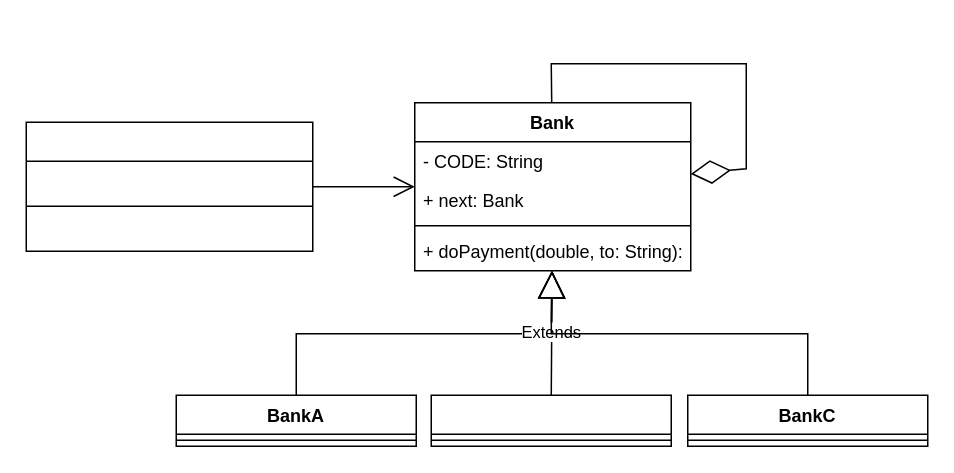
Some shapes in this 954 by 473 pixel diagram are drawn without their labels. The shapes that lost their labels are listed below. From the top down, each one's centre as x and y in pixels, then its label:
the point at 169,186: App
the point at 550,420: BankB
